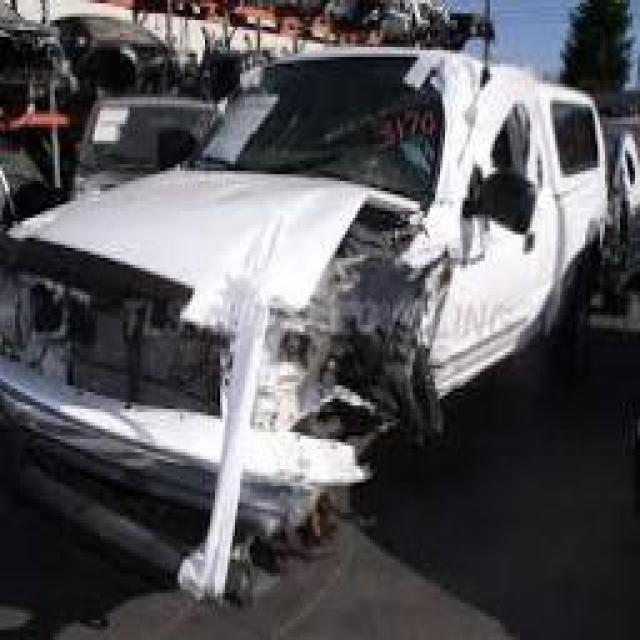Bumper: (1, 257, 361, 608)
Fender: (235, 220, 444, 438)
Windshield: (185, 60, 448, 207)
